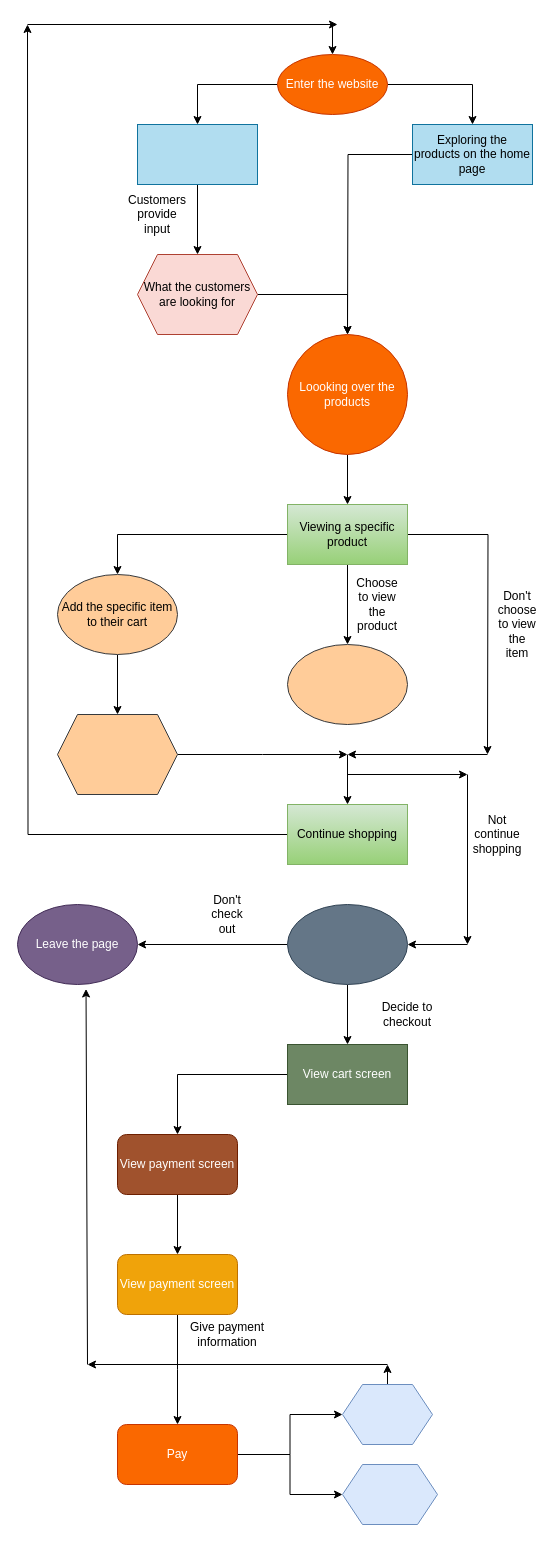
Some shapes in this 555 by 1542 pixel diagram are drawn without their labels. Here are the shapes that lost their labels. From the top down, the centre of each, then its label:
At point (197, 154): "Searching for a product".
At point (347, 684): "Product's webpage will open".
At point (117, 754): "Receive add to cart confirmation".
At point (347, 944): "Checkout".
At point (387, 1414): "Order confirmation screen".
At point (390, 1494): "Receive an email".
